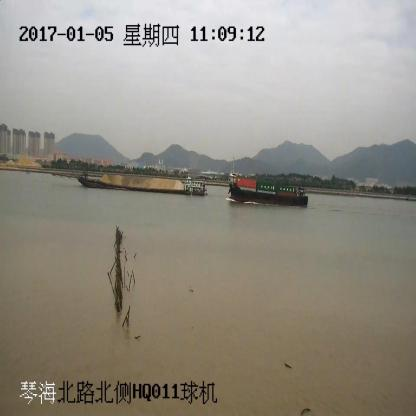Container Ship: (229, 172, 307, 207)
